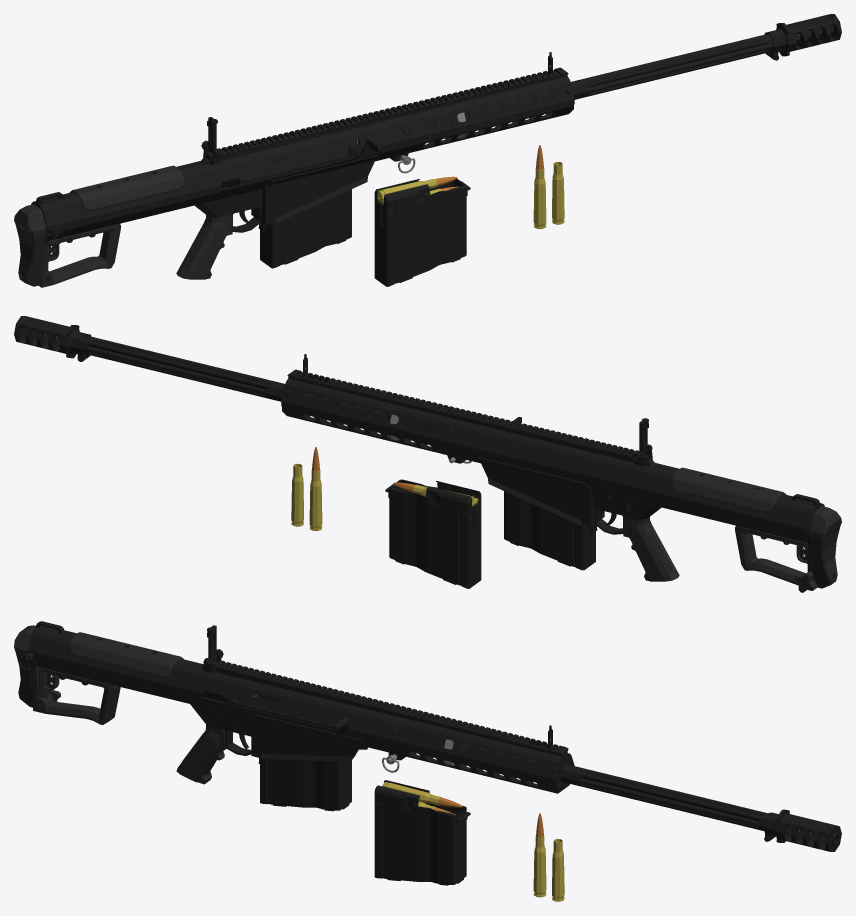
3 views of the same model, one above another, from view 1: azimuth 30°, elevation 25°; view 2: azimuth 150°, elevation 25°; view 3: azimuth 330°, elevation 25° (orthographic).
Parts seen in each view (by area): view 1: m107 upper receiver_6, m107 lower receiver_7, 50bmg m82 10rnd mag_3, m107 barrel_5, m107 stock_10, 50bmg m82 10rnd empty mag_2, m107 bolt carrier_4, m107 muzzle brake_15, m107 pistol grip_8, .50 bmg_0, 50bmg_1; view 2: m107 upper receiver_6, m107 lower receiver_7, 50bmg m82 10rnd mag_3, m107 barrel_5, m107 stock_10, 50bmg m82 10rnd empty mag_2, m107 muzzle brake_15, m107 pistol grip_8, .50 bmg_0, 50bmg_1; view 3: m107 upper receiver_6, m107 lower receiver_7, 50bmg m82 10rnd mag_3, m107 barrel_5, 50bmg m82 10rnd empty mag_2, m107 stock_10, m107 muzzle brake_15, m107 bolt carrier_4, m107 pistol grip_8, .50 bmg_0, 50bmg_1.
Boxes of the visible parts, x1,y1,x2,y2 form: m107 upper receiver_6: (31,67,574,246); m107 lower receiver_7: (32,105,573,242); 50bmg m82 10rnd mag_3: (374,176,470,286); m107 barrel_5: (357,34,773,148); m107 stock_10: (14,204,120,287); 50bmg m82 10rnd empty mag_2: (260,189,351,268); m107 bolt carrier_4: (222,138,381,188); m107 muzzle brake_15: (764,14,841,60); m107 pistol grip_8: (176,214,232,279); .50 bmg_0: (533,145,546,228); 50bmg_1: (552,161,564,224); m107 upper receiver_6: (281,369,824,536); m107 lower receiver_7: (282,407,823,544); 50bmg m82 10rnd mag_3: (385,479,481,588); m107 barrel_5: (82,336,432,440); m107 stock_10: (735,506,841,592); 50bmg m82 10rnd empty mag_2: (504,491,595,570); m107 muzzle brake_15: (14,316,91,361); m107 pistol grip_8: (623,516,679,581); .50 bmg_0: (309,447,322,530); 50bmg_1: (291,463,303,526); m107 upper receiver_6: (18,621,574,791); m107 lower receiver_7: (29,659,569,793); 50bmg m82 10rnd mag_3: (374,780,470,885); m107 barrel_5: (345,716,768,830); 50bmg m82 10rnd empty mag_2: (260,759,351,811); m107 stock_10: (14,625,120,724); m107 muzzle brake_15: (763,809,841,851); m107 bolt carrier_4: (203,691,349,735); m107 pistol grip_8: (176,725,226,784); .50 bmg_0: (533,813,546,897); 50bmg_1: (552,839,564,901).
Size of the model in its own units: 14.47 by 3.48 by 1.01.
